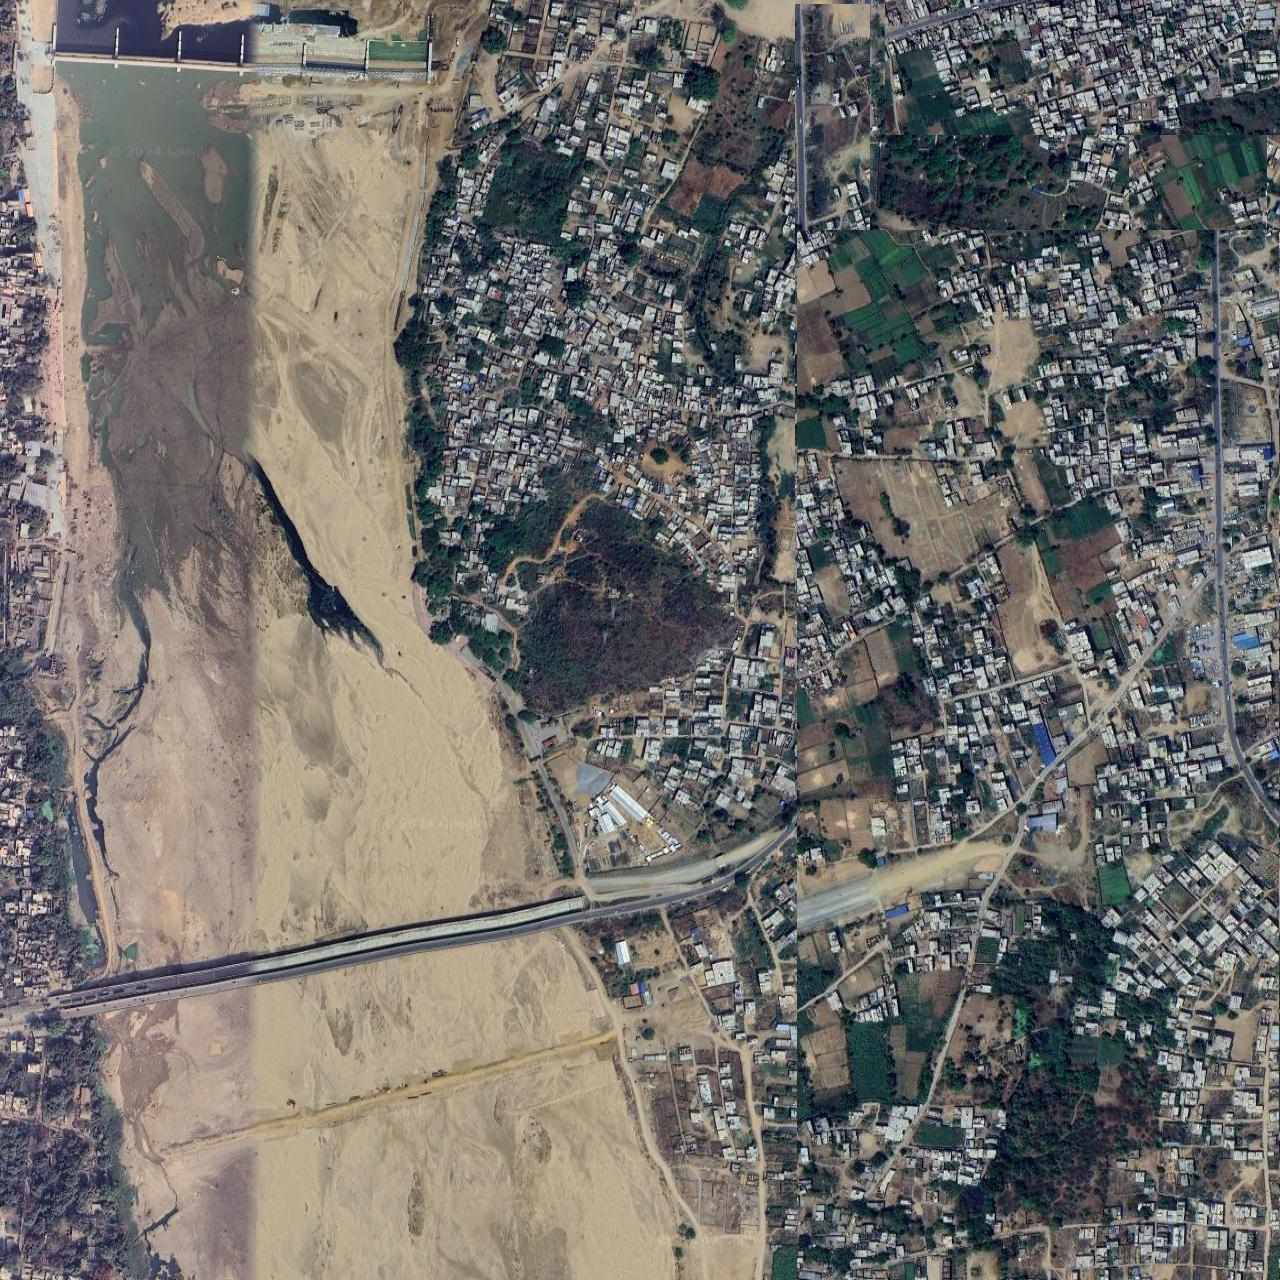greenery: (1130, 50, 1267, 372), (874, 88, 1103, 260)
house: (798, 230, 1279, 1280), (428, 11, 797, 716), (576, 887, 850, 1280), (0, 0, 82, 1006), (795, 5, 870, 794), (885, 0, 1280, 135), (523, 710, 817, 872), (0, 1030, 135, 1279)
water: (64, 64, 250, 621)
